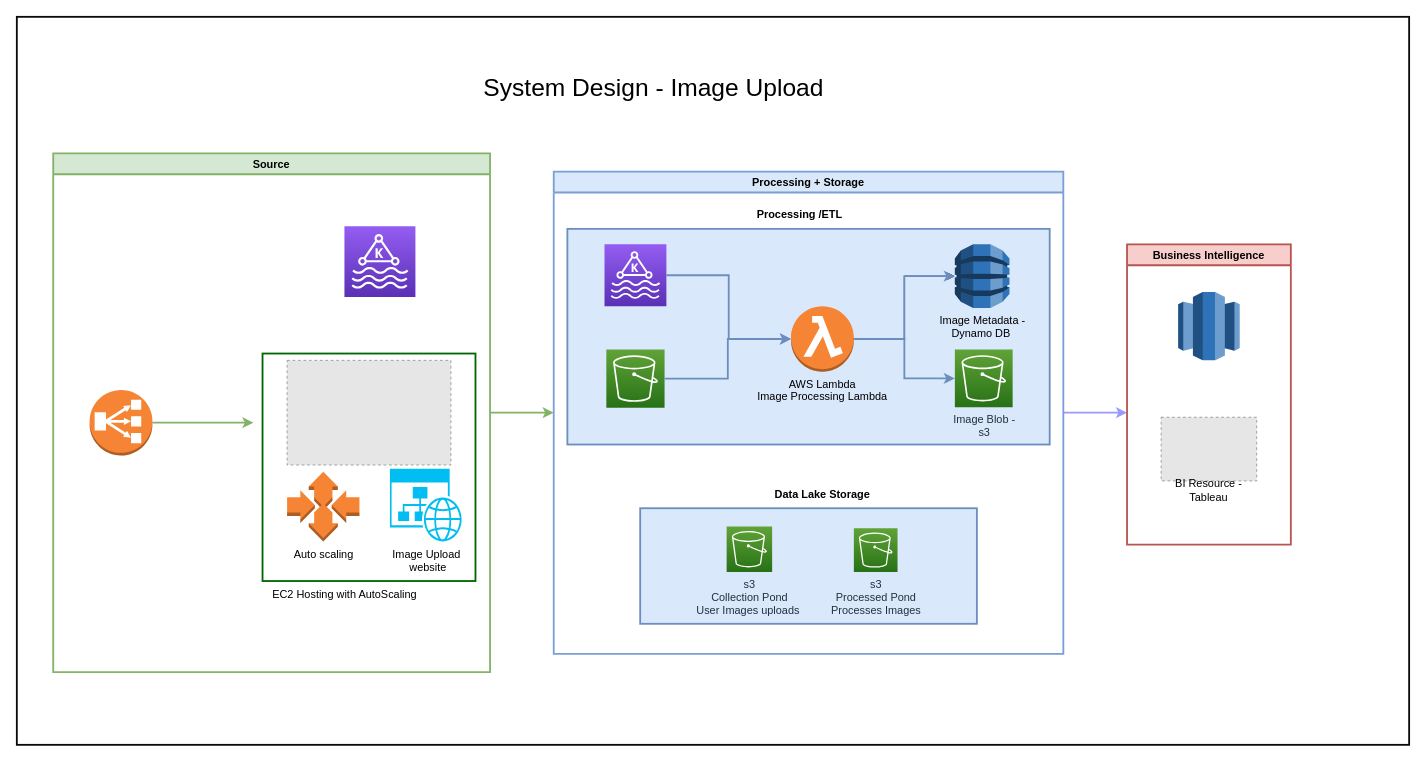
The diagram is 1425 pixels wide and 761 high, and some of its shapes have lost their labels. Grey dashed boxes stand in for pictures. The shapes that lost their labels are listed below. From the top down, each one's centre as x and y in pixels, then its label:
(379,261): Self Managed kafka Kafka Image Stream
(635,274): Self Managed Kafka Apache Kafka Trigger
(1208,325): BI Resource - Redshift
(635,378): s3 Image Upload Triggers
(120,422): Load Balancer
